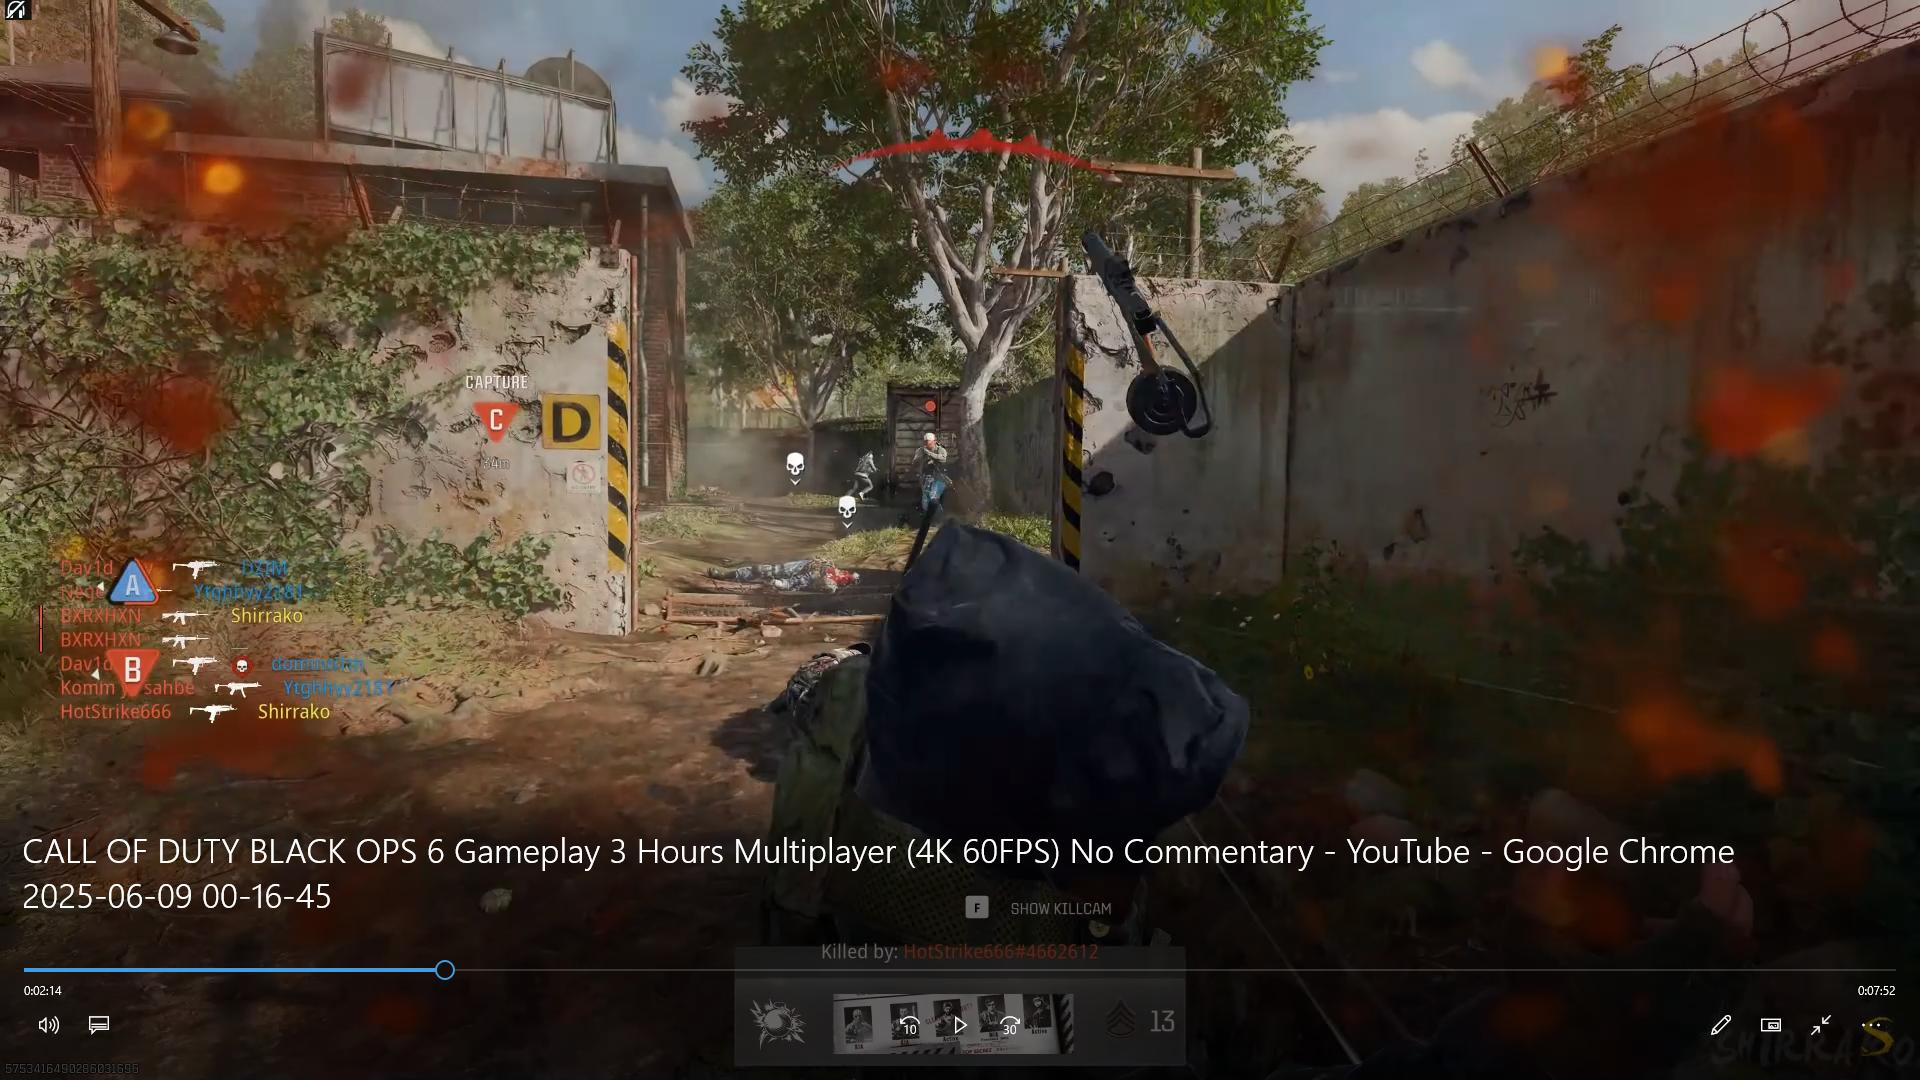Enemy: (911, 430, 948, 512), (847, 443, 880, 504)
